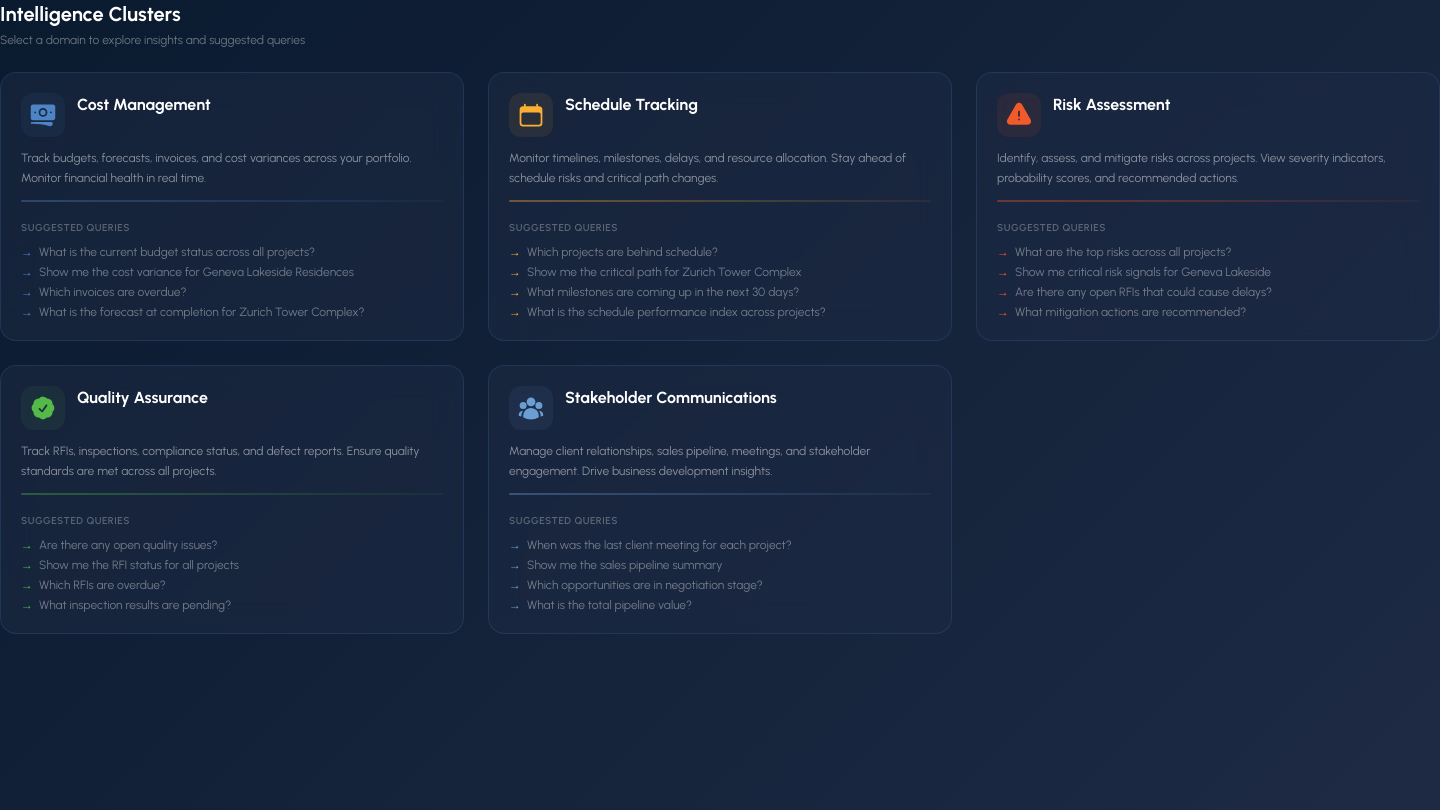
Test: IntelligenceClusterPanel › cluster selection › selects a cluster when clicked
Click the button with aria-label "Select Cost Management" at (43, 115), box [0, 72, 464, 341]
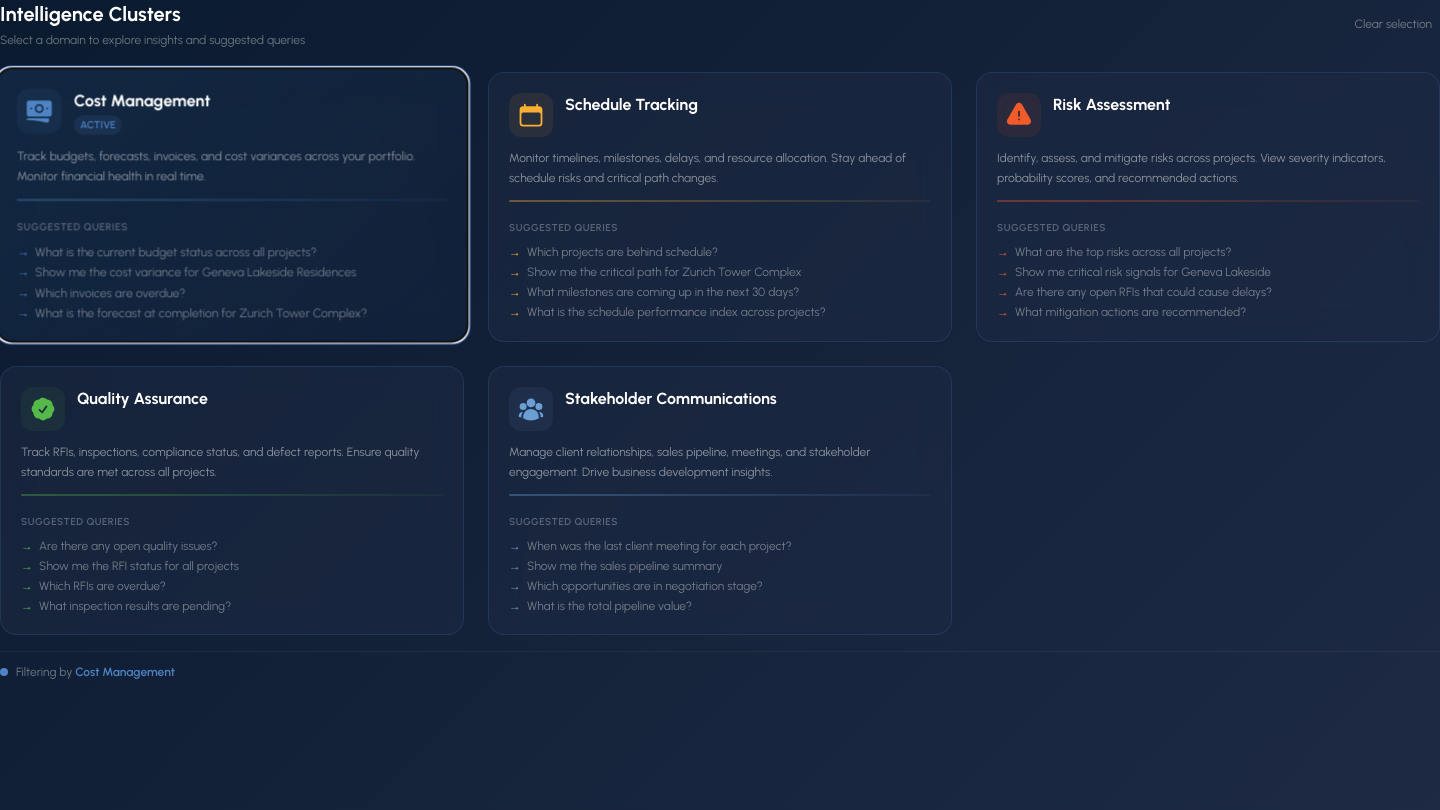
Check: the text "Active" is shown, box [74, 115, 122, 135]
